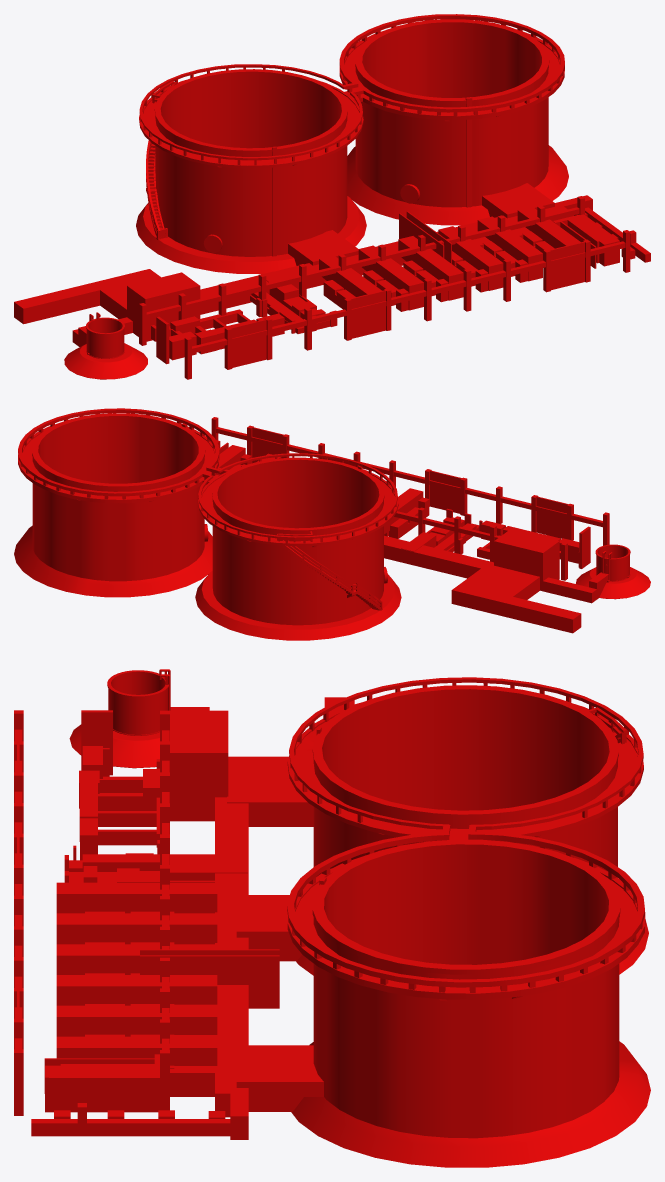
Rendered from Blockables.fbx.
The picture shows the model from 3 angles, top to bottom: view 1: azimuth 30°, elevation 25°; view 2: azimuth 150°, elevation 25°; view 3: azimuth 270°, elevation 25°; orthographic projection. The views are drawn at different scales.
Visible parts, largest first — view 1: polySurface108273, polySurface108232, Air_Receiver2_BBox1, small_tank1, Air_Receiver2_BBox, Panel3_BBox31, Panel3_BBox32, Panel3_BBox34, Panel3_BBox57, Panel3_BBox61, Panel3_BBox60, Enginebody1_BBox1 (+15 smaller); view 2: polySurface108232, polySurface108273, Air_Receiver2_BBox1, Air_Receiver2_BBox, small_tank1, Panel3_BBox34, Panel3_BBox31, Panel3_BBox64, Panel3_BBox63, Blue_jockey_pump1_BBox1, Panel3_BBox32, Panel3_BBox62 (+5 smaller); view 3: polySurface108232, polySurface108273, Panel3_BBox34, Air_Receiver2_BBox, Panel3_BBox57, small_tank1, Panel3_BBox60, Air_Receiver2_BBox1, Enginebody1_BBox1, Enginebody1_BBox, Enginebody1_BBox4, Enginebody1_BBox3 (+16 smaller).
Part boxes in pixels (x1,y1,x2,y2): polySurface108273: [136, 64, 366, 273]; polySurface108232: [339, 14, 568, 225]; Air_Receiver2_BBox1: [14, 269, 160, 324]; small_tank1: [64, 312, 147, 379]; Air_Receiver2_BBox: [72, 272, 200, 346]; Panel3_BBox31: [192, 241, 625, 353]; Panel3_BBox32: [146, 207, 579, 319]; Panel3_BBox34: [200, 195, 592, 314]; Panel3_BBox57: [552, 214, 619, 268]; Panel3_BBox61: [288, 230, 358, 265]; Panel3_BBox60: [482, 183, 554, 218]; Enginebody1_BBox1: [358, 245, 423, 310]; polySurface108232: [14, 408, 219, 597]; polySurface108273: [195, 453, 401, 640]; Air_Receiver2_BBox1: [451, 564, 581, 633]; Air_Receiver2_BBox: [494, 529, 608, 603]; small_tank1: [576, 544, 650, 599]; Panel3_BBox34: [384, 535, 493, 578]; Panel3_BBox31: [216, 427, 602, 527]; Panel3_BBox64: [536, 496, 568, 538]; Panel3_BBox63: [430, 470, 461, 513]; Blue_jockey_pump1_BBox1: [401, 517, 464, 551]; Panel3_BBox32: [217, 467, 560, 557]; Panel3_BBox62: [252, 427, 283, 463]; polySurface108232: [287, 824, 650, 1167]; polySurface108273: [287, 677, 648, 975]; Panel3_BBox34: [170, 797, 248, 1139]; Air_Receiver2_BBox: [170, 707, 228, 821]; Panel3_BBox57: [44, 1054, 159, 1112]; small_tank1: [69, 669, 170, 768]; Panel3_BBox60: [236, 1045, 323, 1111]; Air_Receiver2_BBox1: [227, 697, 354, 826]; Enginebody1_BBox1: [56, 913, 217, 944]; Enginebody1_BBox: [56, 882, 217, 913]; Enginebody1_BBox4: [56, 1005, 217, 1036]; Enginebody1_BBox3: [56, 975, 217, 1005].
Bounding box in the file's own units: 7379 × 1427 × 4368.
